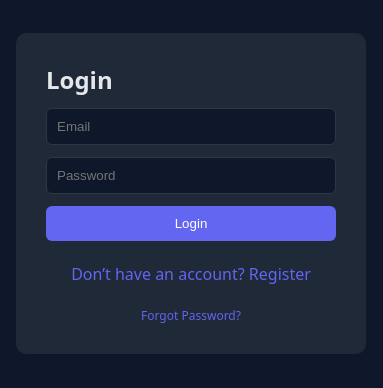
Scenario: Login Component › Form Validation › should show error for invalid email format
In the field with placeholder "Email": (191, 126) [46,108,336,144], type "invalidemail"
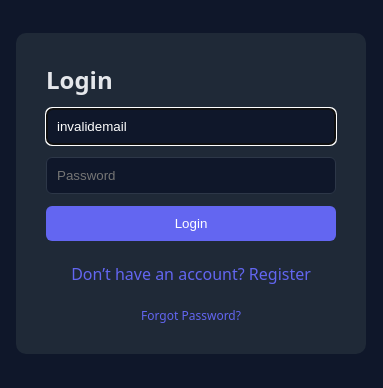
In the password field with placeholder "Password": (191, 175) [46,156,336,194], type "password123"
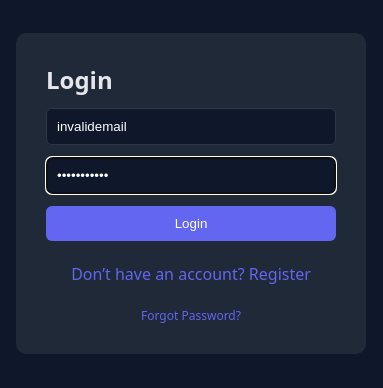
Click the button "Login": (191, 223) [46,206,336,240]
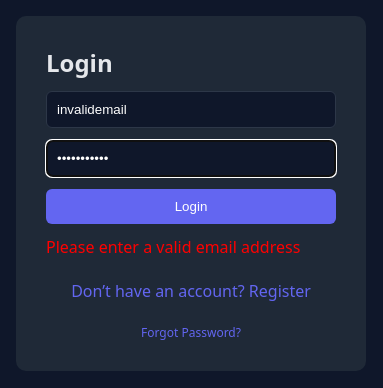
Expected: the text "Please enter a valid email address" is shown, [46,236,336,258]
